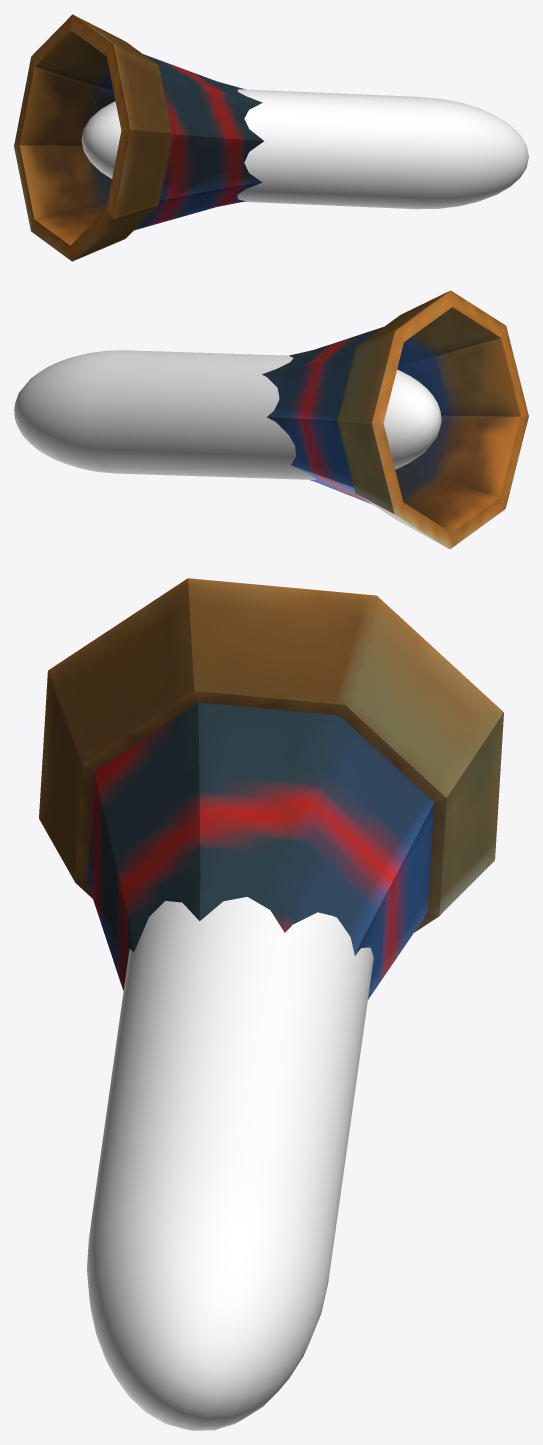
File: PartyHornAnchor.fbx
3 views of the same model, one above another, from view 1: azimuth 30°, elevation 25°; view 2: azimuth 150°, elevation 25°; view 3: azimuth 270°, elevation 25° (orthographic). The views are drawn at different scales.
Parts seen in each view (by area): view 1: LMABS_, PartyHornInteractionPoint; view 2: LMABS_, PartyHornInteractionPoint; view 3: LMABS_, PartyHornInteractionPoint.
Boxes of the visible parts, x1=… form: LMABS_: x1=14, y1=14, x2=263, y2=261; PartyHornInteractionPoint: x1=81, y1=89, x2=528, y2=209; LMABS_: x1=262, y1=290, x2=528, y2=549; PartyHornInteractionPoint: x1=14, y1=350, x2=441, y2=479; LMABS_: x1=39, y1=578, x2=503, y2=999; PartyHornInteractionPoint: x1=87, y1=897, x2=373, y2=1430.
Bounding box in the file's own units: 38.86 × 19.74 × 17.05.
